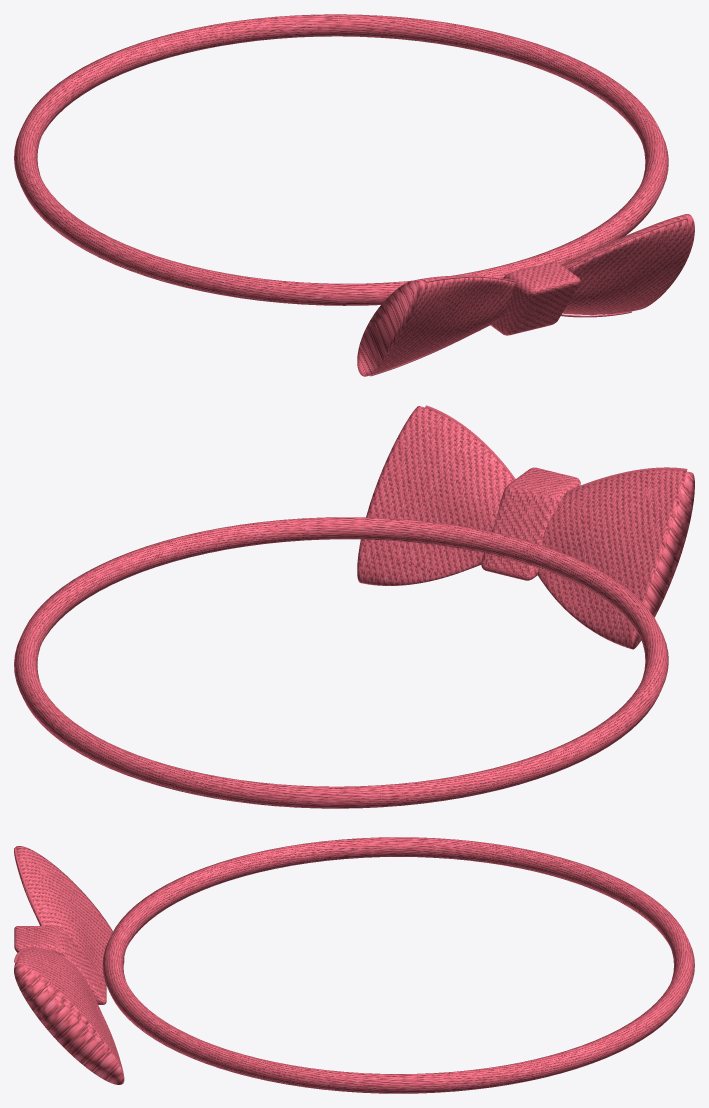
Rendered from restart_bow_neck_chick.glb.
3 views of the same model, one above another, from view 1: azimuth 30°, elevation 25°; view 2: azimuth 150°, elevation 25°; view 3: azimuth 270°, elevation 25° (orthographic). The views are drawn at different scales.
Visible parts, largest first — view 1: Patrón cuello · Lazo coral nuevo; view 2: Patrón cuello · Lazo coral nuevo; view 3: Patrón cuello · Lazo coral nuevo.
Part boxes in pixels (x1,y1,x2,y2): Patrón cuello · Lazo coral nuevo: [14, 14, 694, 376]; Patrón cuello · Lazo coral nuevo: [14, 405, 694, 808]; Patrón cuello · Lazo coral nuevo: [14, 837, 694, 1093].
Size of the model in its own units: 0.4438 by 0.1025 by 0.5198.
1 material, 1 textured.
